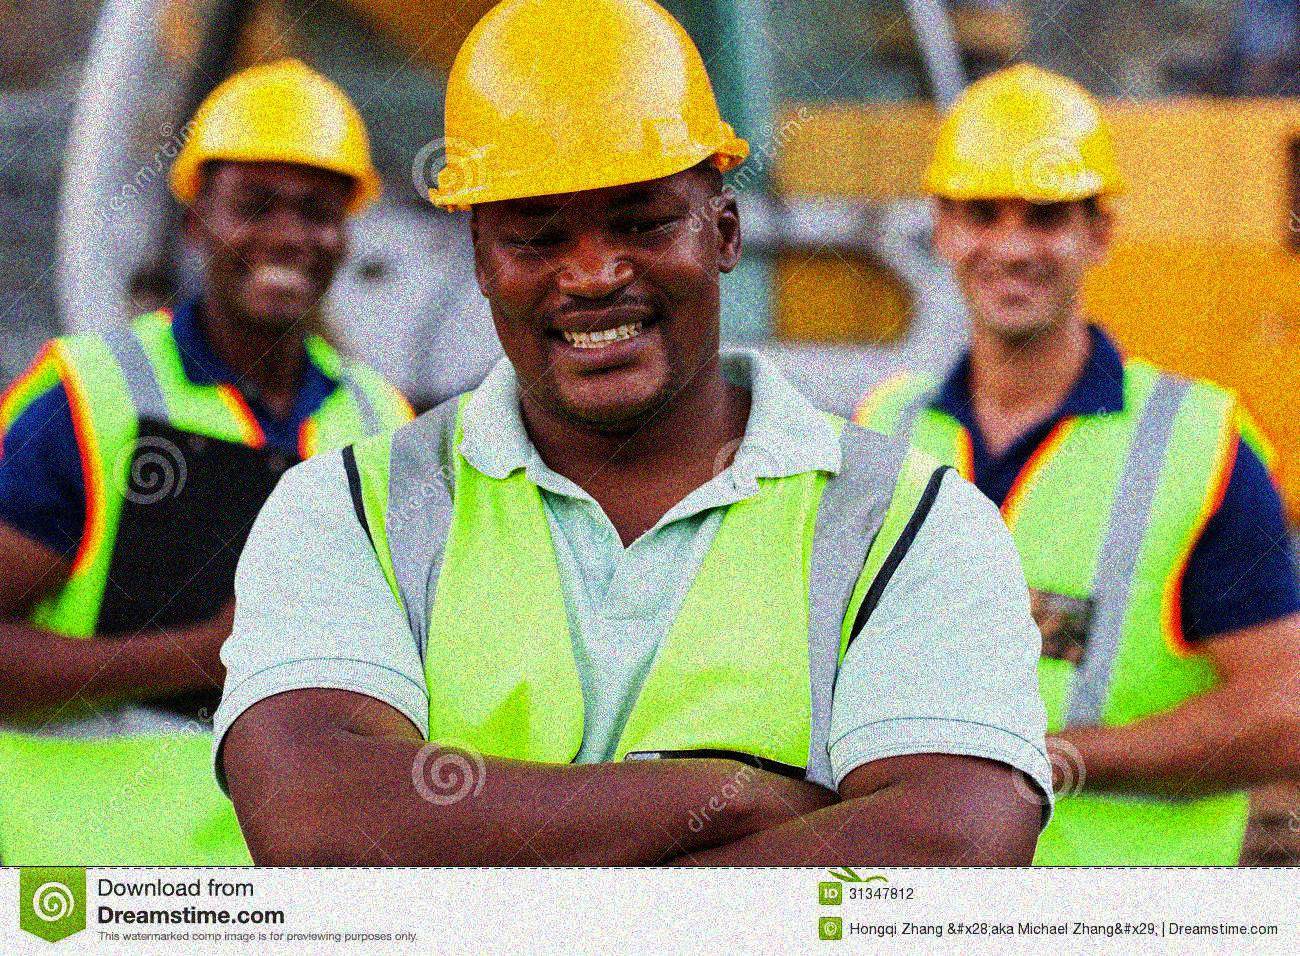helmet: (431, 1, 754, 436), (919, 62, 1128, 344), (171, 55, 385, 325)
